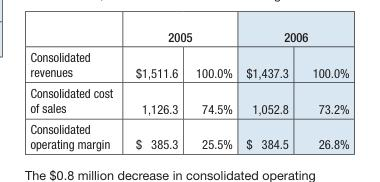table: (29, 28, 348, 150)
table column: (29, 28, 123, 150), (123, 28, 186, 150), (238, 28, 299, 150), (186, 28, 238, 150), (299, 28, 348, 150)
table column header: (29, 28, 348, 82)
table row: (29, 82, 348, 118), (29, 118, 348, 150), (29, 54, 348, 82), (29, 28, 348, 54)
table spanning cell: (29, 28, 123, 82), (123, 28, 238, 54), (238, 28, 348, 54)
